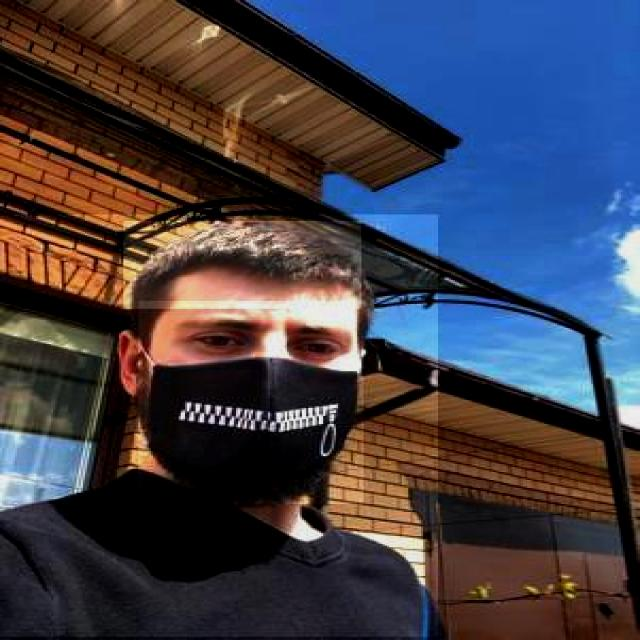face_mask: (138, 301, 364, 504)
head_nohelmet: (124, 221, 362, 309)
person: (0, 214, 440, 638)
